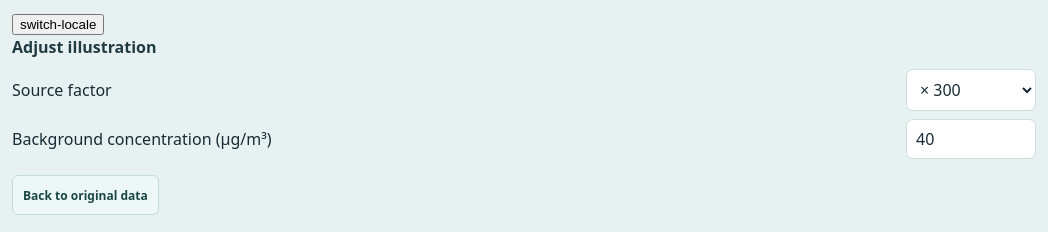
back to original data › restores {multiplier: 1, background: 0}, resets both controls and hides itself
The image size is (1048, 232).
Click the button "Back to original data": (85,195) [12,175,159,215]
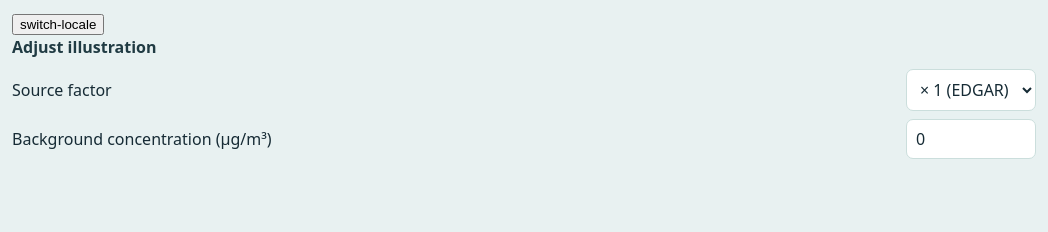
expect the dropdown labelled "Source factor" shows "× 1 (EDGAR)": met, box [906,69,1036,111]
expect the number field labelled "Background concentration (µg/m³)" holds "0": met, box [906,119,1036,159]
expect the button "Back to original data" is gone: met
